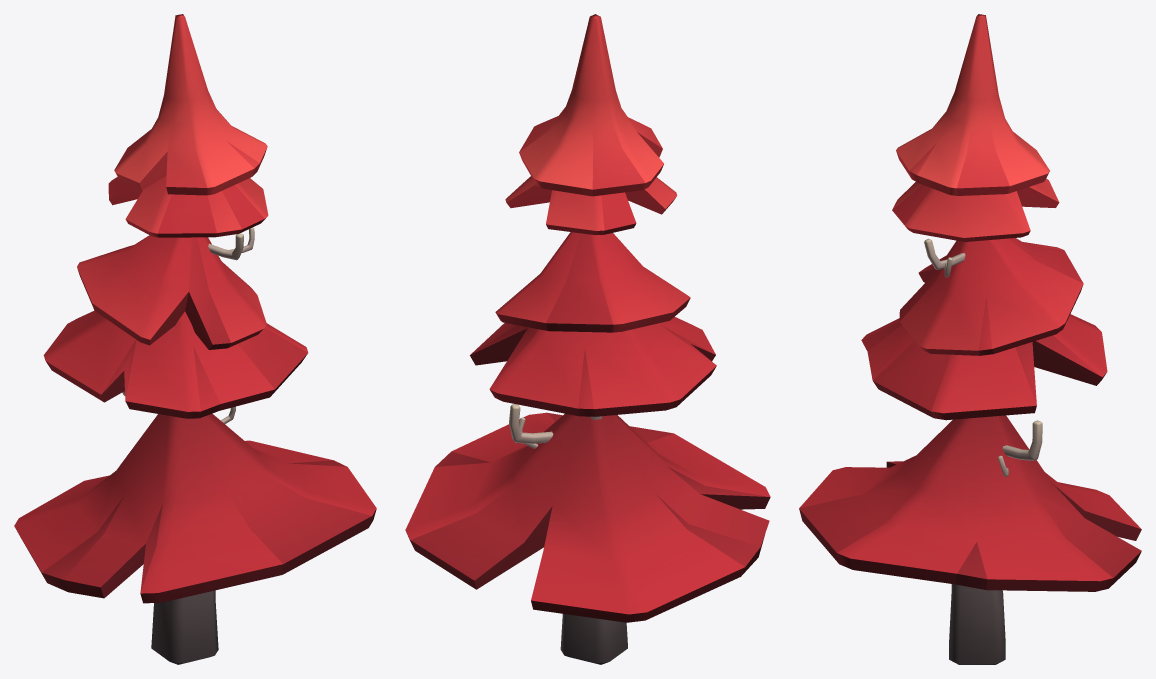
Rendered from pine_tree_col3_3.fbx.
3 renders of one model, left to right at view 1: azimuth 30°, elevation 25°; view 2: azimuth 150°, elevation 25°; view 3: azimuth 270°, elevation 25°, orthographic.
Visible parts, largest first — view 1: tree_pine_col3_3; view 2: tree_pine_col3_3; view 3: tree_pine_col3_3.
Part boxes in pixels (bbox=[...]): tree_pine_col3_3: bbox=[14, 14, 376, 664]; tree_pine_col3_3: bbox=[405, 14, 770, 664]; tree_pine_col3_3: bbox=[799, 14, 1141, 664].
Bounding box in the file's own units: 587 × 1190 × 578.
1 material, 1 textured.
